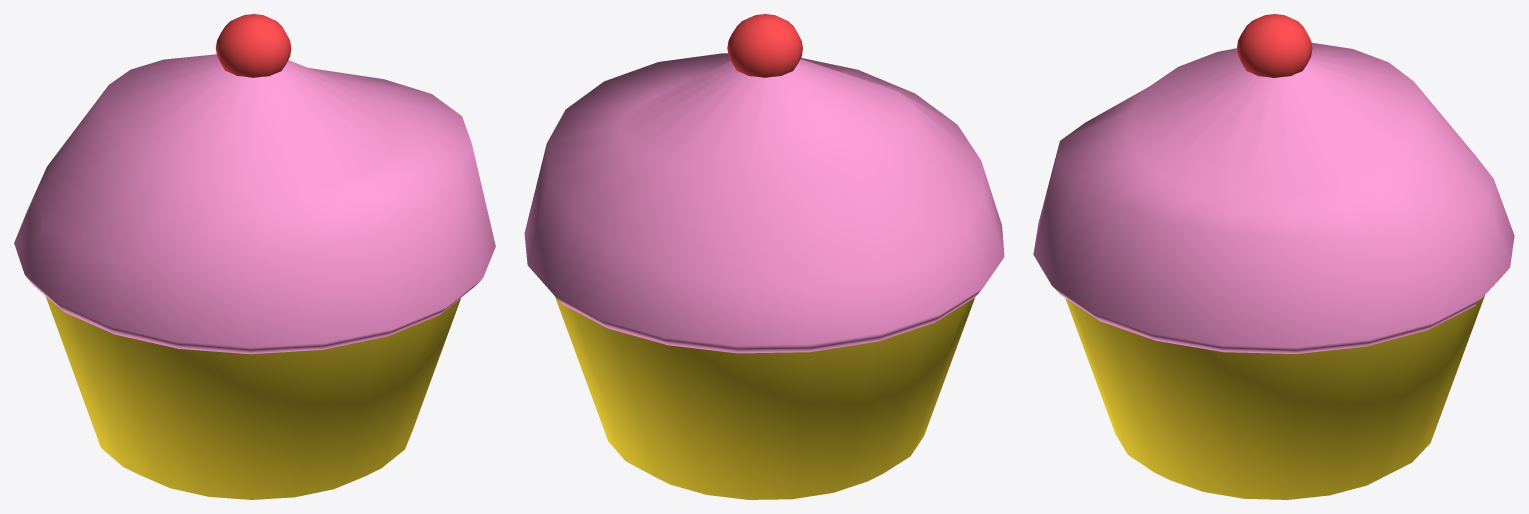
The model's file is ToyObject_177.fbx.
3 renders of one model, left to right at view 1: azimuth 30°, elevation 25°; view 2: azimuth 150°, elevation 25°; view 3: azimuth 270°, elevation 25°, orthographic.
Visible parts, largest first — view 1: object-1.071; view 2: object-1.071; view 3: object-1.071.
Part boxes in pixels (x1,y1,x2,y2): object-1.071: [14, 14, 495, 499]; object-1.071: [524, 14, 1004, 499]; object-1.071: [1033, 14, 1514, 499].
Size of the model in its own units: 0.1489 by 0.1447 by 0.149.
